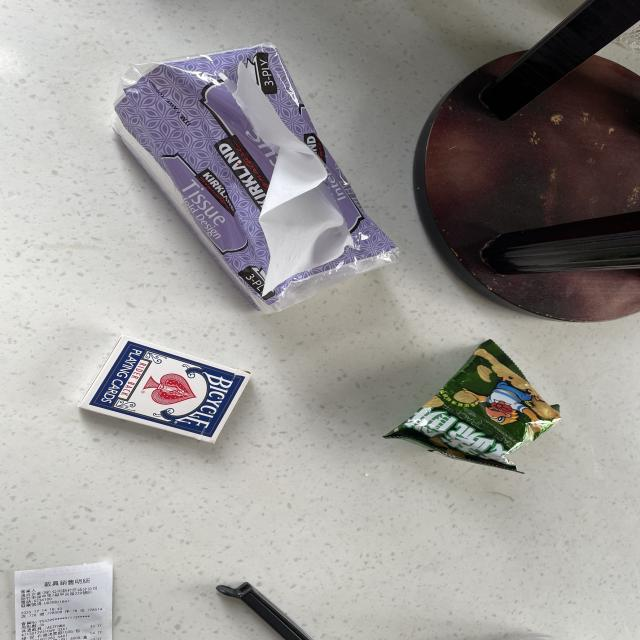tissue: (108, 40, 404, 318)
